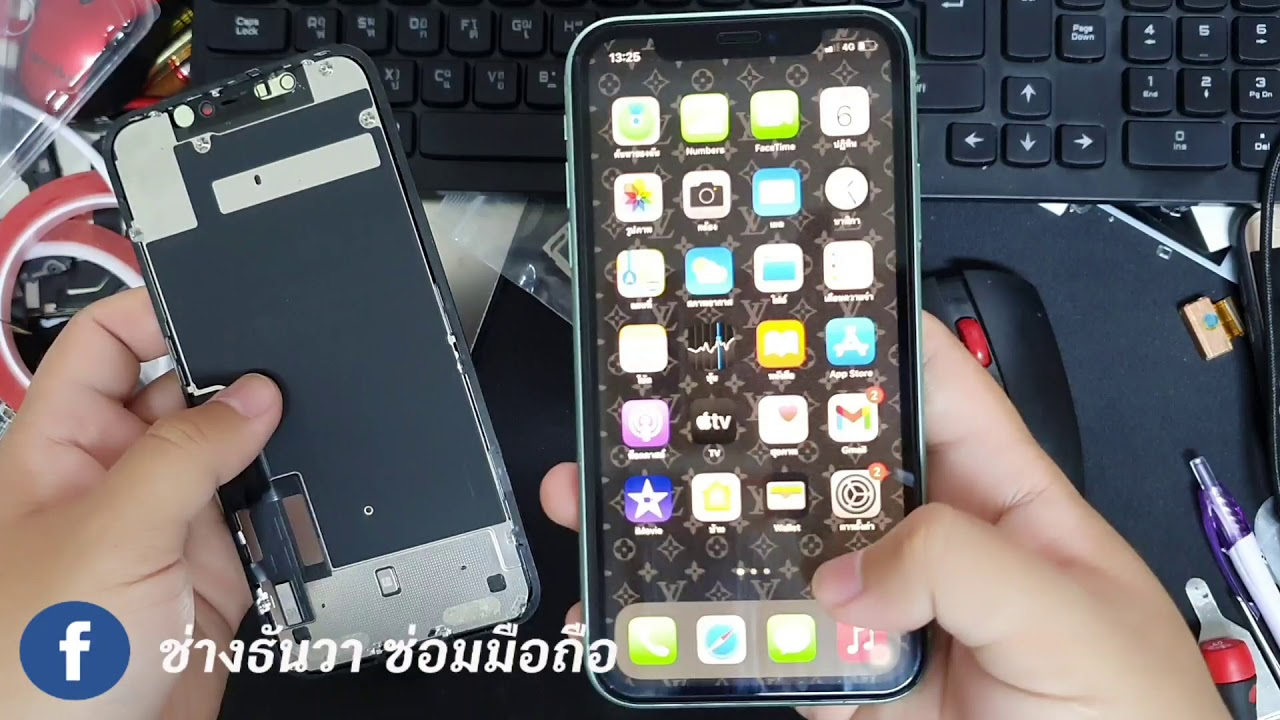phone: (99, 35, 547, 670), (555, 1, 940, 714)
